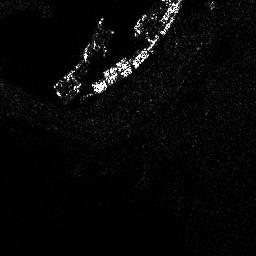ship: (133, 53, 151, 68), (106, 73, 119, 84), (120, 67, 133, 77)
